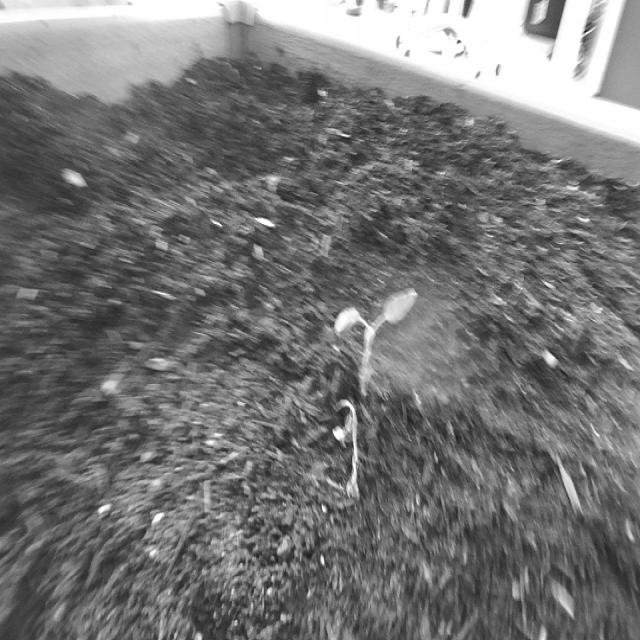Healthy: (328, 282, 423, 398)
Unhealthy: (328, 393, 368, 507)
